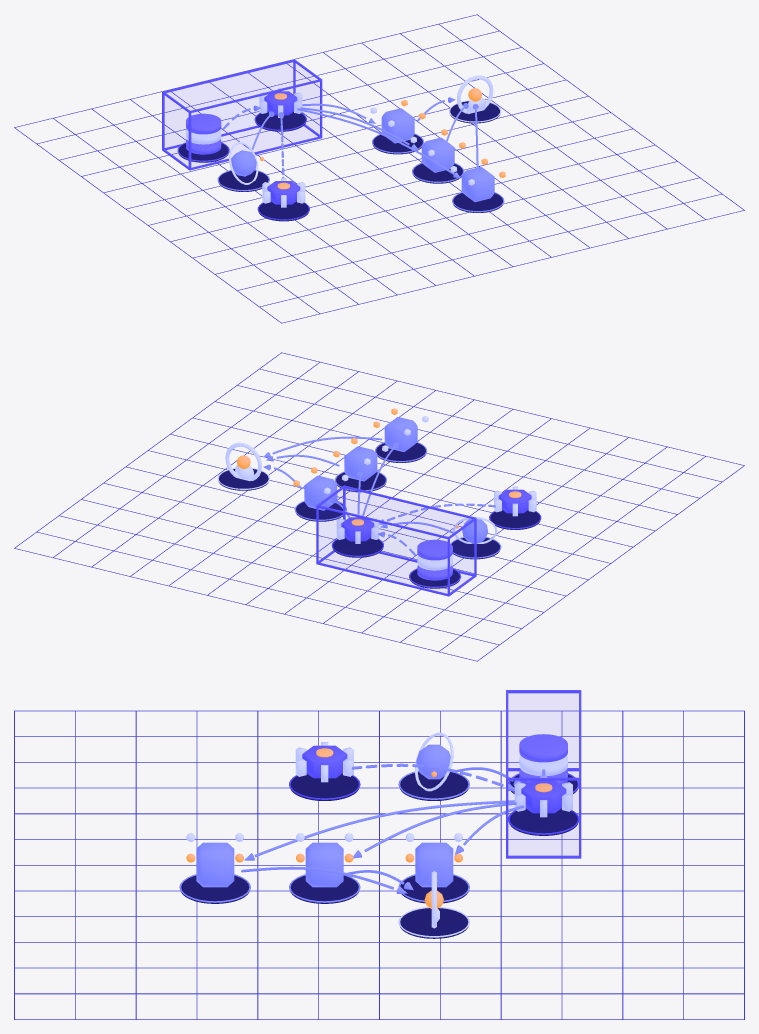
Rendered from python.glb.
3 views of the same model, one above another, from view 1: azimuth 30°, elevation 25°; view 2: azimuth 150°, elevation 25°; view 3: azimuth 270°, elevation 25° (orthographic). The views are drawn at different scales.
Parts seen in each view (by area): view 1: floor, group_Automation, mesh_dockersdk_core, mesh_boto3_core, mesh_apiclient_core, mesh_ci_pad, mesh_trigger_pad, mesh_script_pad, mesh_dockersdk_pad, mesh_venv_disc2, mesh_boto3_pad, mesh_report_pad (+4 smaller); view 2: floor, group_Automation, mesh_boto3_core, mesh_dockersdk_core, mesh_apiclient_core, mesh_script_pad, mesh_ci_pad, mesh_trigger_pad, mesh_report_pad, mesh_venv_disc2, mesh_dockersdk_pad, mesh_apiclient_pad (+3 smaller); view 3: floor, group_Automation, mesh_dockersdk_core, mesh_boto3_core, mesh_apiclient_core, mesh_report_pad, mesh_script_pad, mesh_ci_pad, mesh_trigger_pad, mesh_boto3_pad, mesh_dockersdk_pad, mesh_venv_disc2 (+8 smaller).
Boxes of the visible parts, <box> form: floor: <box>14,14,744,323</box>; group_Automation: <box>162,59,322,170</box>; mesh_dockersdk_core: <box>461,167,494,202</box>; mesh_boto3_core: <box>421,137,454,172</box>; mesh_apiclient_core: <box>381,108,414,143</box>; mesh_ci_pad: <box>259,201,308,221</box>; mesh_trigger_pad: <box>219,170,268,191</box>; mesh_script_pad: <box>256,111,305,131</box>; mesh_dockersdk_pad: <box>453,193,503,212</box>; mesh_venv_disc2: <box>186,113,221,134</box>; mesh_boto3_pad: <box>413,163,462,183</box>; mesh_report_pad: <box>450,101,500,123</box>; floor: <box>14,352,744,661</box>; group_Automation: <box>316,485,476,596</box>; mesh_boto3_core: <box>344,446,377,481</box>; mesh_dockersdk_core: <box>384,417,417,451</box>; mesh_apiclient_core: <box>304,475,337,510</box>; mesh_script_pad: <box>333,538,382,557</box>; mesh_ci_pad: <box>490,510,539,529</box>; mesh_trigger_pad: <box>451,538,499,559</box>; mesh_report_pad: <box>219,469,268,490</box>; mesh_venv_disc2: <box>417,539,452,560</box>; mesh_dockersdk_pad: <box>376,443,425,462</box>; mesh_apiclient_pad: <box>296,502,342,521</box>; floor: <box>14,710,744,1019</box>; group_Automation: <box>506,690,581,858</box>; mesh_dockersdk_core: <box>196,842,234,887</box>; mesh_boto3_core: <box>305,842,343,887</box>; mesh_apiclient_core: <box>415,842,453,887</box>; mesh_report_pad: <box>400,908,468,938</box>; mesh_script_pad: <box>509,808,577,835</box>; mesh_ci_pad: <box>290,773,358,800</box>; mesh_trigger_pad: <box>400,772,468,800</box>; mesh_boto3_pad: <box>290,875,358,903</box>; mesh_dockersdk_pad: <box>181,875,249,903</box>; mesh_venv_disc2: <box>519,734,567,762</box>.
Size of the model in its own units: 24.03 by 2.91 by 24.03.
